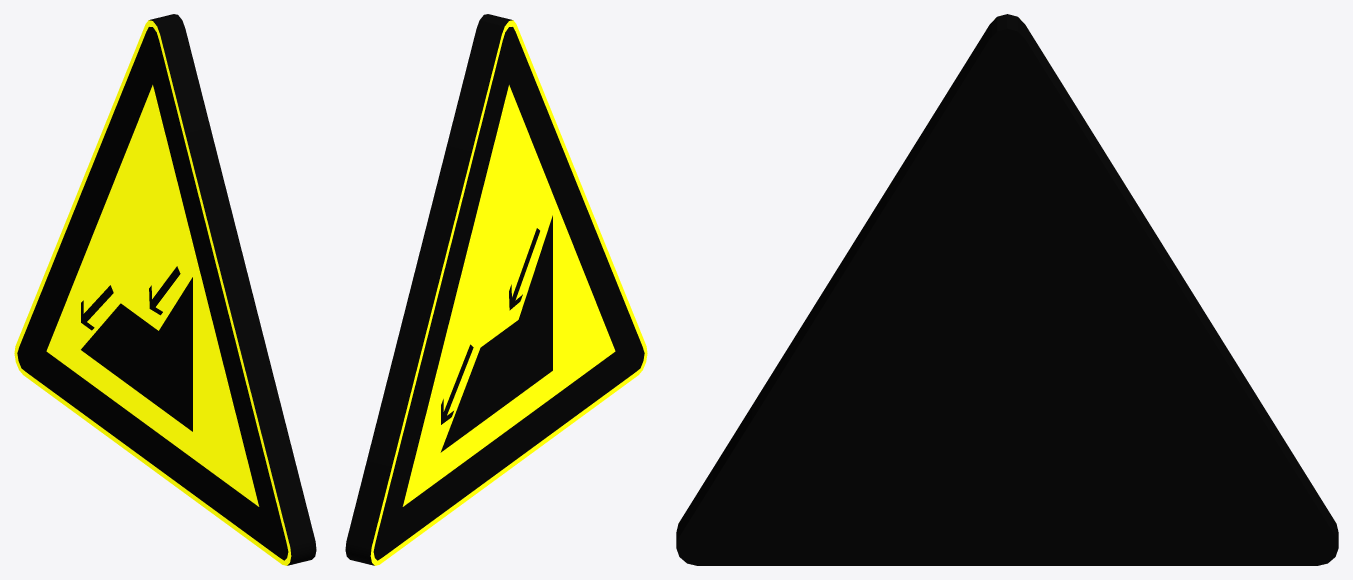
File: Continuous_DownSlopes.glb
The picture shows the model from 3 angles, left to right: view 1: azimuth 30°, elevation 25°; view 2: azimuth 150°, elevation 25°; view 3: azimuth 270°, elevation 25°; orthographic projection. The views are drawn at different scales.
Parts seen in each view (by area): view 1: Continuous_DownSlopes; view 2: Continuous_DownSlopes; view 3: Continuous_DownSlopes.
Boxes of the visible parts, x1,y1,x2,y2 form: Continuous_DownSlopes: (14, 14, 316, 565); Continuous_DownSlopes: (345, 14, 647, 565); Continuous_DownSlopes: (676, 14, 1338, 565).
Size of the model in its own units: 0.0643 by 1.02 by 1.14.
